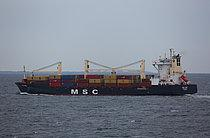Ship: (15, 46, 201, 100)
